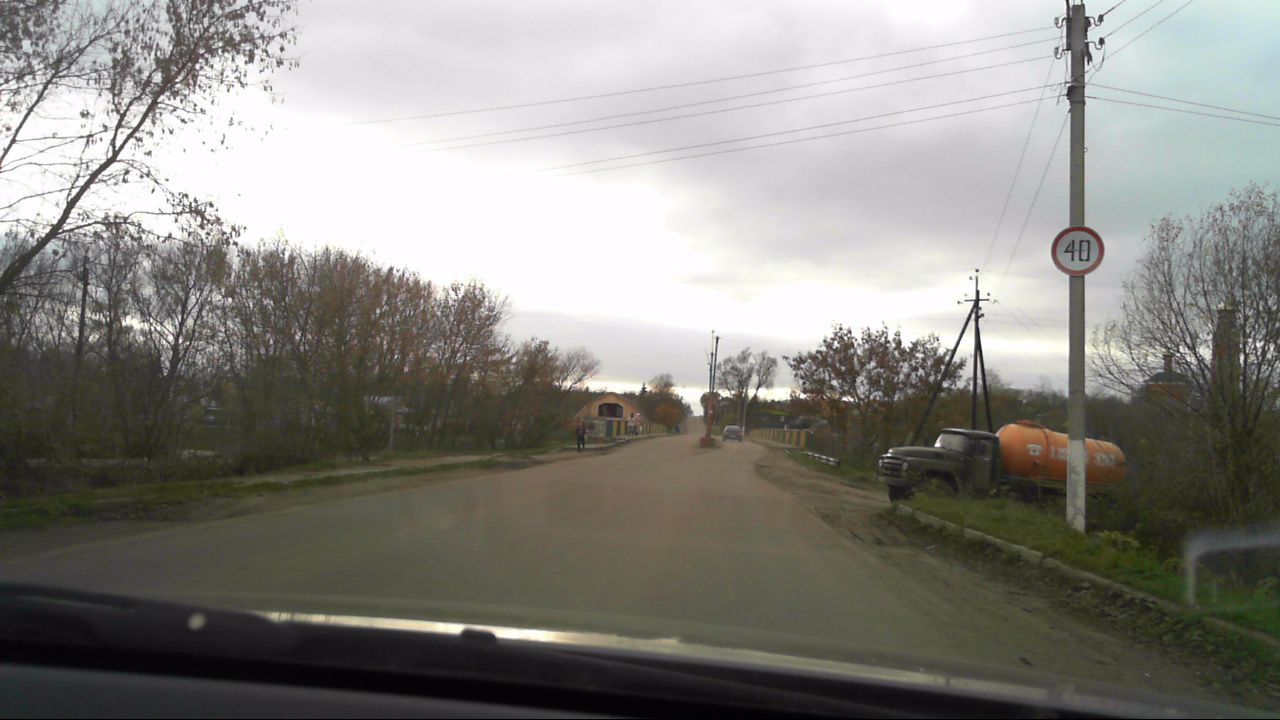speed_warning_40: (1050, 226, 1104, 277)
